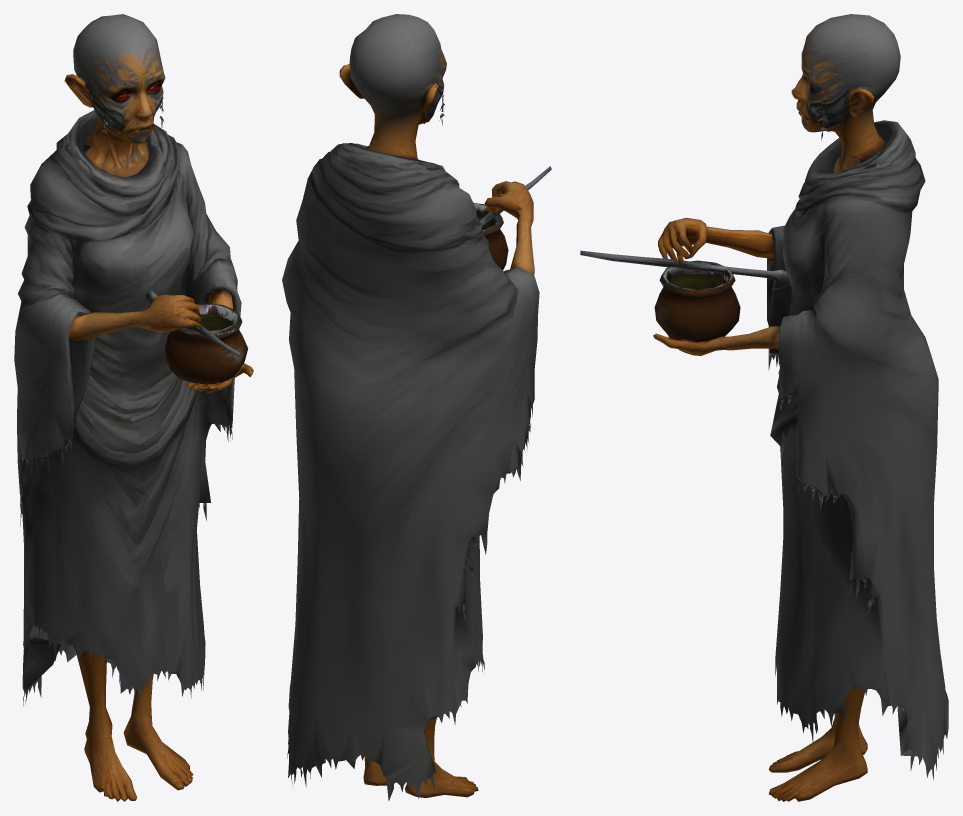
3 views of the same model, side by side, from view 1: azimuth 30°, elevation 25°; view 2: azimuth 150°, elevation 25°; view 3: azimuth 270°, elevation 25° (orthographic). The views are drawn at different scales.
Visible parts, largest first — view 1: tripo_node_6e560c75-dfa6-4643-9cc7-c0e9640ab10a; view 2: tripo_node_6e560c75-dfa6-4643-9cc7-c0e9640ab10a; view 3: tripo_node_6e560c75-dfa6-4643-9cc7-c0e9640ab10a.
Boxes of the visible parts, x1,y1,x2,y2 form: tripo_node_6e560c75-dfa6-4643-9cc7-c0e9640ab10a: (14, 14, 253, 801); tripo_node_6e560c75-dfa6-4643-9cc7-c0e9640ab10a: (282, 14, 551, 801); tripo_node_6e560c75-dfa6-4643-9cc7-c0e9640ab10a: (580, 14, 948, 801).
Size of the model in its own units: 0.2988 by 0.998 by 0.4355.
Materials: 1 (1 with a texture image).
